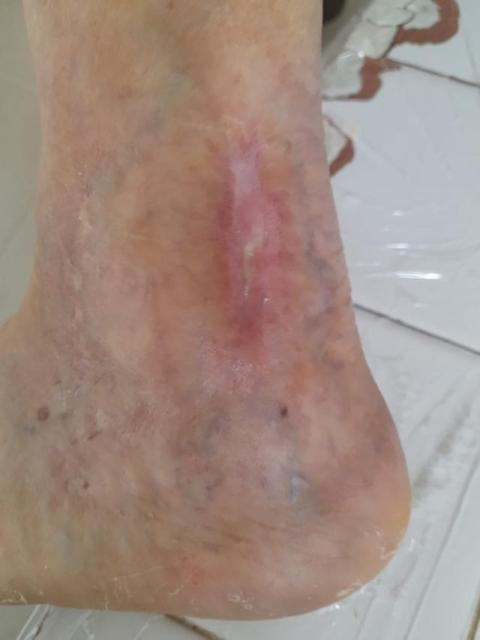wound: (224, 143, 289, 339)
